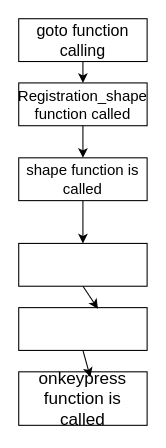
Some shapes in this 166 by 448 pixel diagram are drawn without their labels. Each missing label, with the box of its shape:
listen is called: (18, 307, 147, 350)
showturtle is called: (18, 242, 147, 286)
